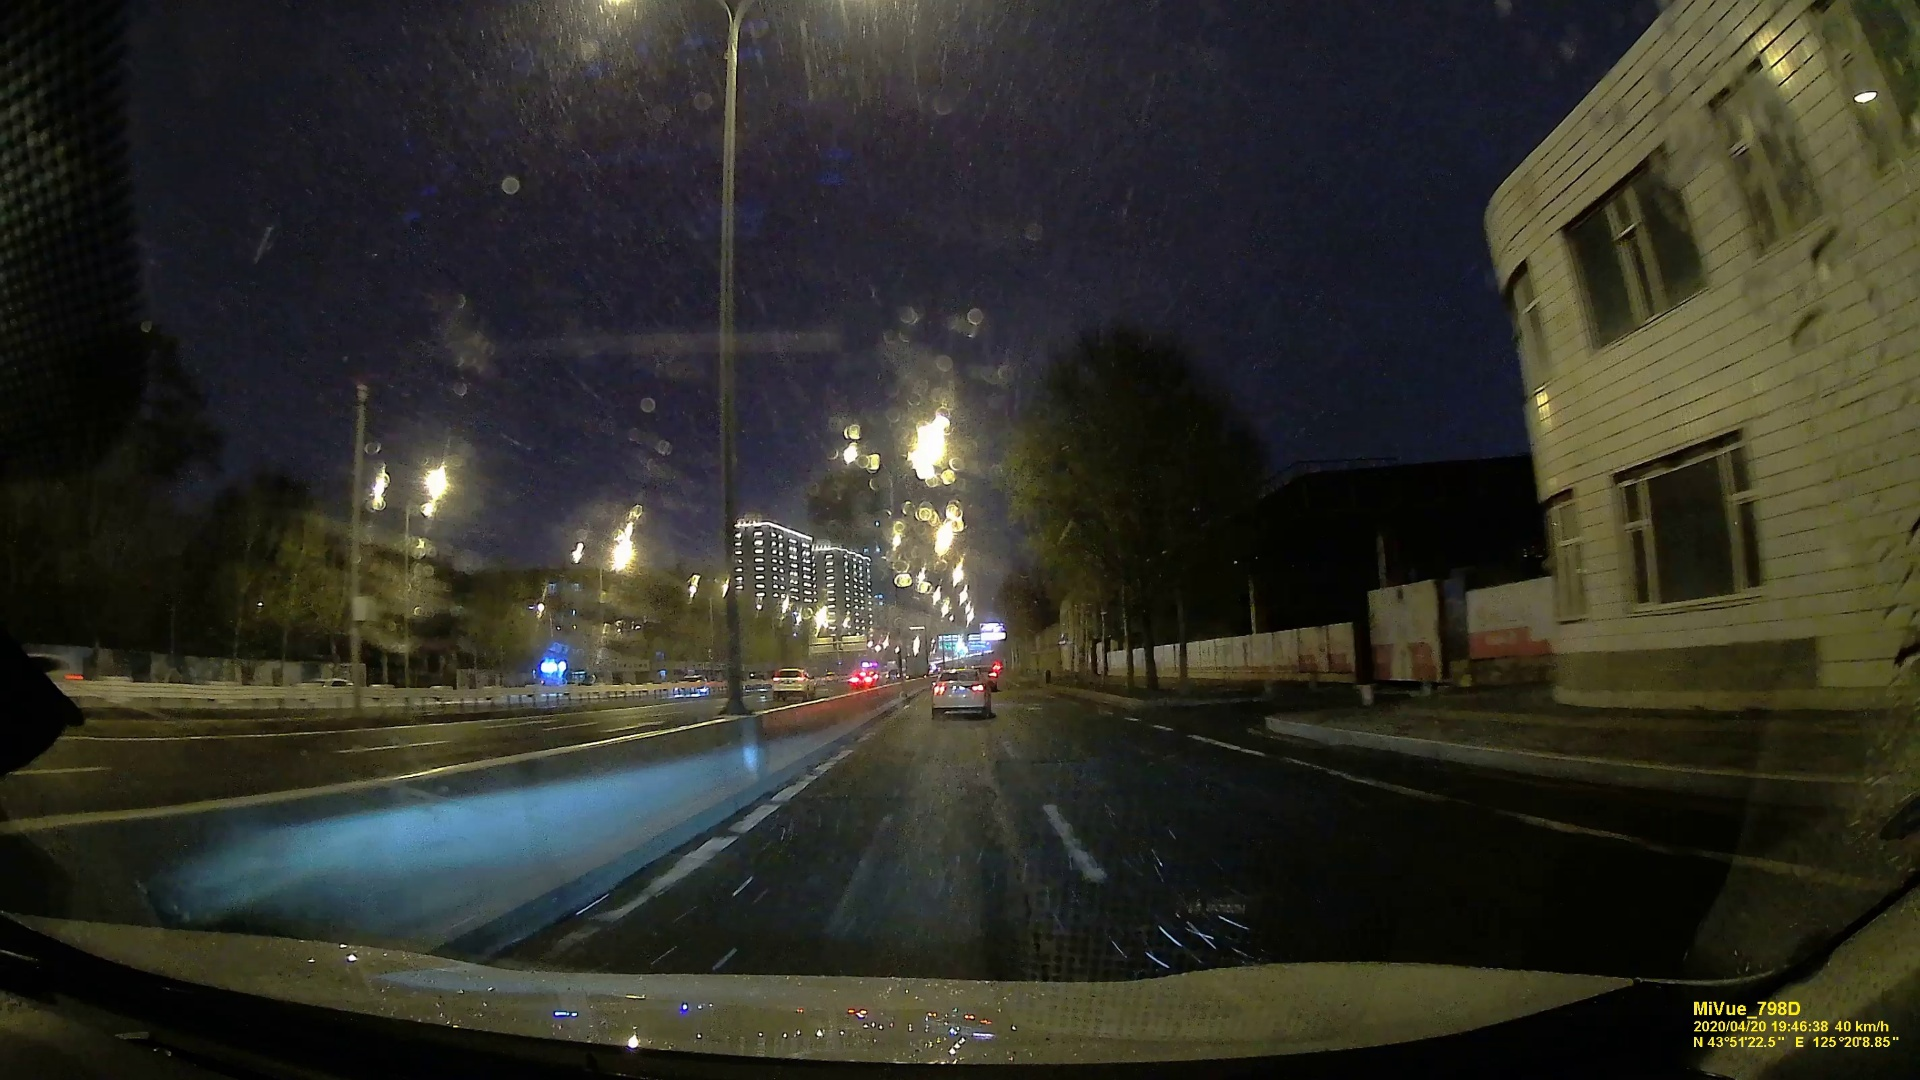vehicle: (932, 667, 989, 717), (771, 669, 814, 702), (849, 673, 878, 688)
